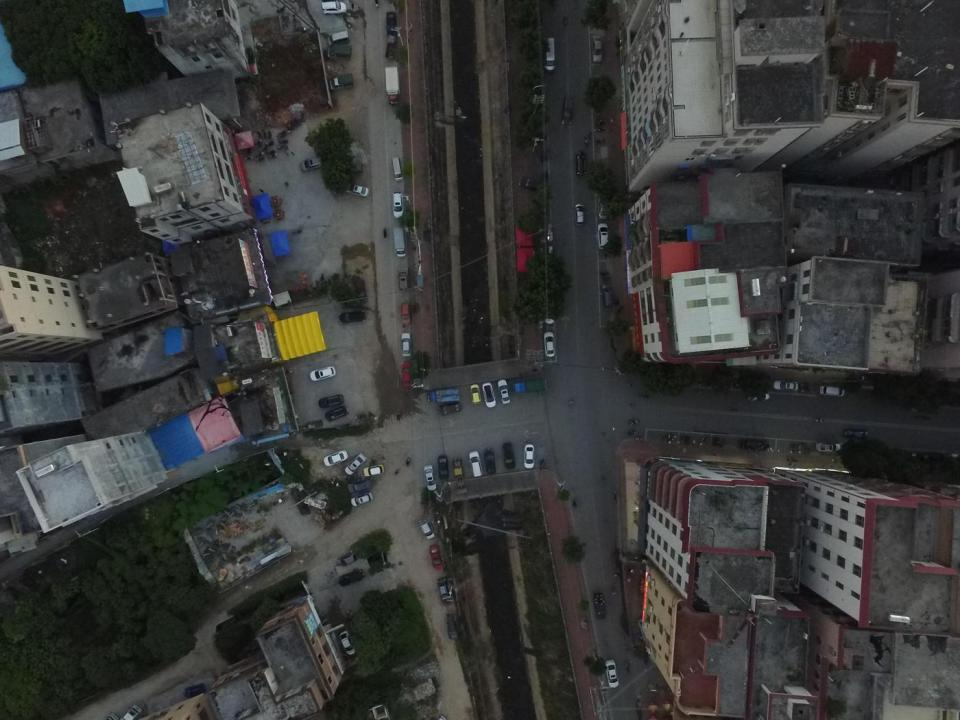car: (452, 459, 468, 494), (343, 453, 367, 475), (738, 436, 771, 452), (339, 569, 365, 588), (324, 448, 348, 467), (299, 157, 328, 172), (338, 310, 367, 325), (501, 441, 516, 470), (309, 366, 336, 382), (842, 429, 872, 443), (324, 406, 350, 422), (429, 545, 445, 571), (318, 394, 345, 409), (436, 577, 451, 604), (339, 631, 355, 656), (605, 660, 619, 688), (482, 382, 497, 408), (468, 450, 483, 476), (348, 479, 373, 494), (497, 378, 511, 404), (597, 222, 610, 250), (817, 385, 845, 398), (436, 403, 463, 416), (484, 448, 497, 475), (772, 379, 799, 392), (386, 11, 399, 37), (344, 184, 370, 197), (423, 464, 436, 490), (562, 97, 574, 125), (817, 442, 841, 456), (350, 492, 372, 507), (392, 192, 404, 219), (544, 331, 556, 358), (592, 34, 603, 63), (437, 456, 450, 480), (574, 151, 586, 177), (397, 268, 409, 292), (524, 443, 535, 469), (337, 552, 357, 566), (747, 390, 770, 402), (392, 157, 403, 182), (402, 361, 413, 386), (597, 196, 608, 221), (401, 332, 412, 356), (363, 464, 385, 476), (400, 302, 411, 325), (574, 203, 585, 226), (470, 384, 481, 405)
truck: (385, 66, 401, 105), (509, 379, 548, 393), (392, 226, 407, 258), (426, 388, 460, 402), (326, 44, 353, 61), (330, 74, 354, 90), (592, 592, 605, 619), (384, 35, 398, 59), (446, 612, 458, 640)
van: (543, 37, 556, 73), (321, 1, 348, 15), (601, 284, 615, 308), (328, 31, 351, 45), (420, 522, 435, 540)
